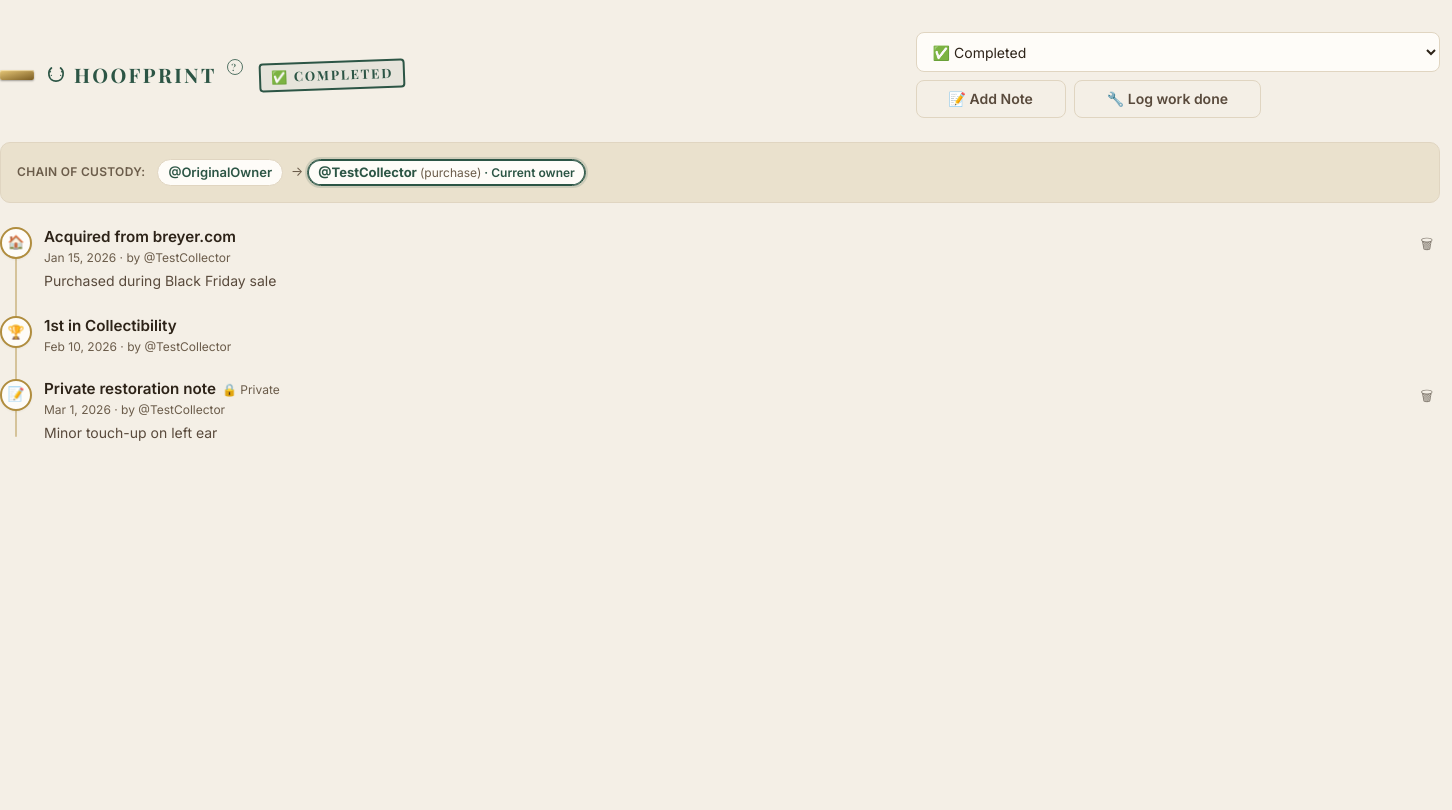
Test: HoofprintTimeline › toggles add event form on button click
Click the button "📝 Add Note".
click(991, 99)  # box [916,80,1066,118]
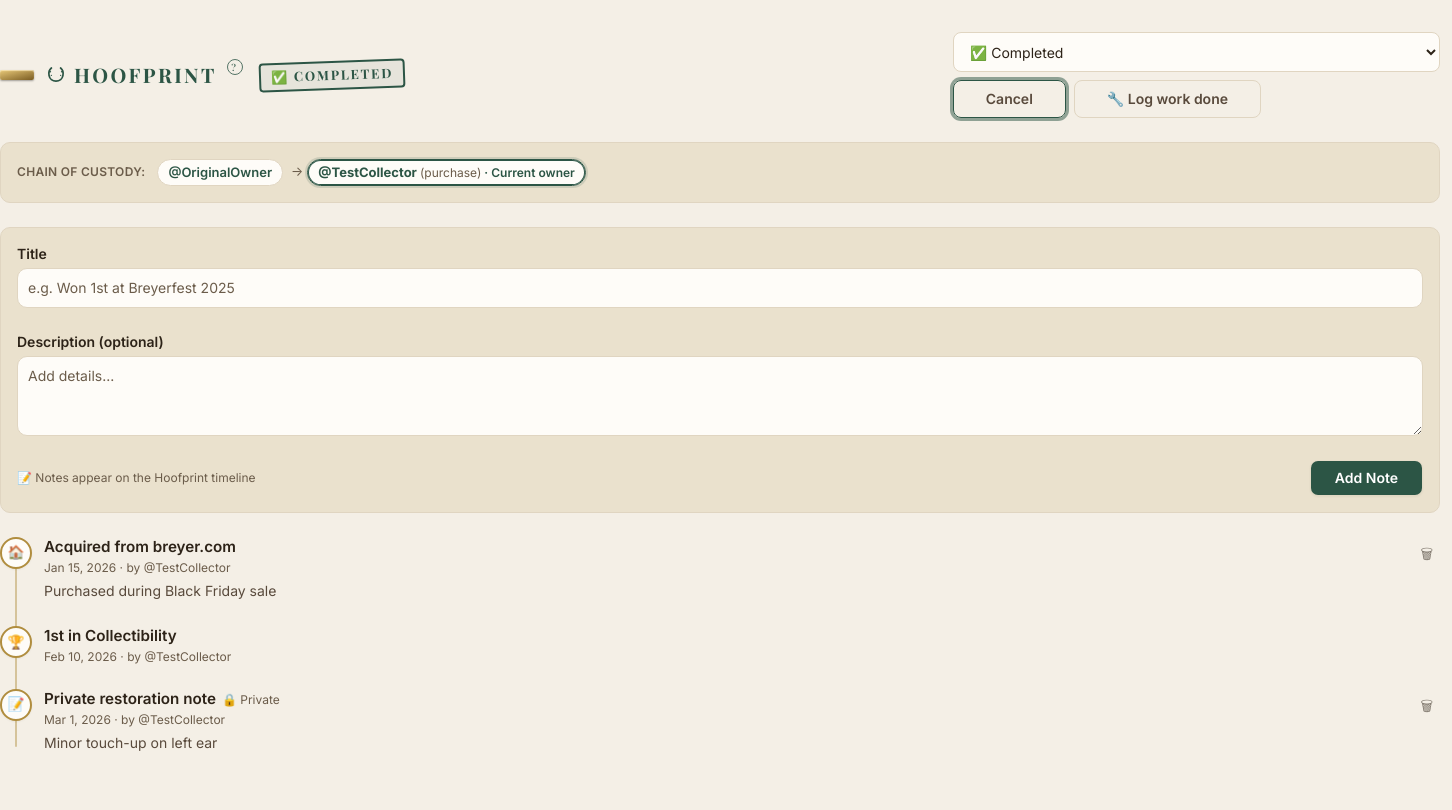
Expected: the field with placeholder "e.g. Won 1st at Breyerfest 2025" is shown, [17,268,1423,308]
Expected: the button "Cancel" is shown, [953,80,1066,118]
